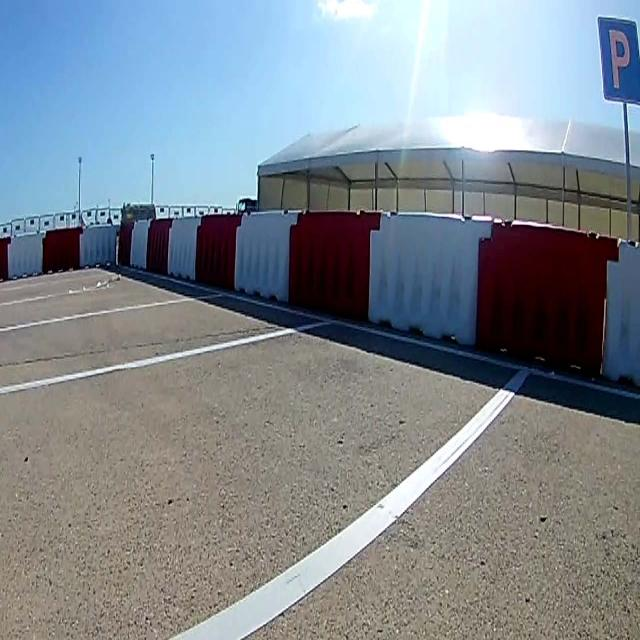park: (598, 15, 640, 108)
